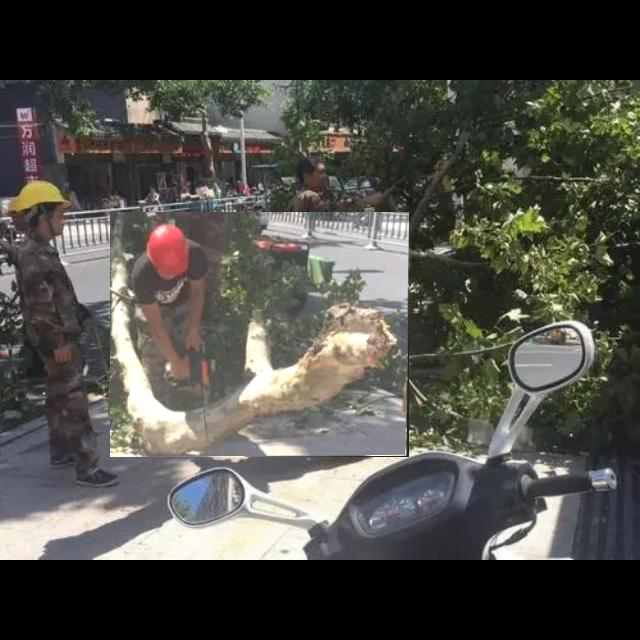Fallen Tree: (110, 212, 410, 458)
